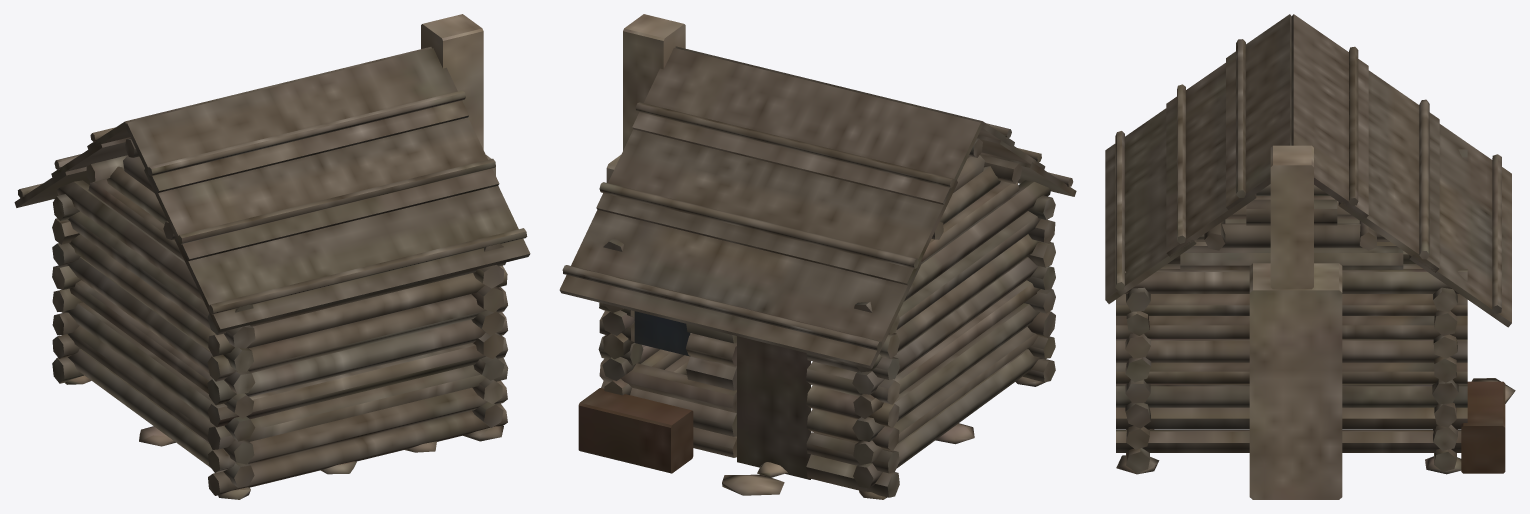
File: b_hut_far.glb
3 views of the same model, side by side, from view 1: azimuth 30°, elevation 25°; view 2: azimuth 150°, elevation 25°; view 3: azimuth 270°, elevation 25° (orthographic).
Visible parts, largest first — view 1: b_hut_far; view 2: b_hut_far; view 3: b_hut_far.
Part boxes in pixels (x1,y1,x2,y2): b_hut_far: (14, 14, 530, 499); b_hut_far: (559, 14, 1076, 499); b_hut_far: (1105, 14, 1515, 499).
Size of the model in its own units: 3.8 by 3.5 by 3.9.
Materials: 1 (1 with a texture image).
